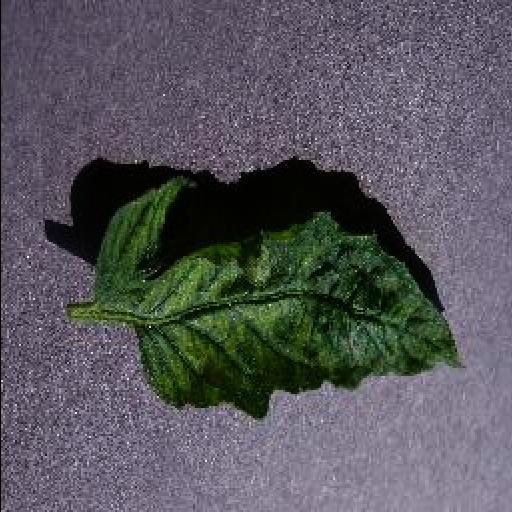Mosaic Virus: (90, 174, 466, 422)
